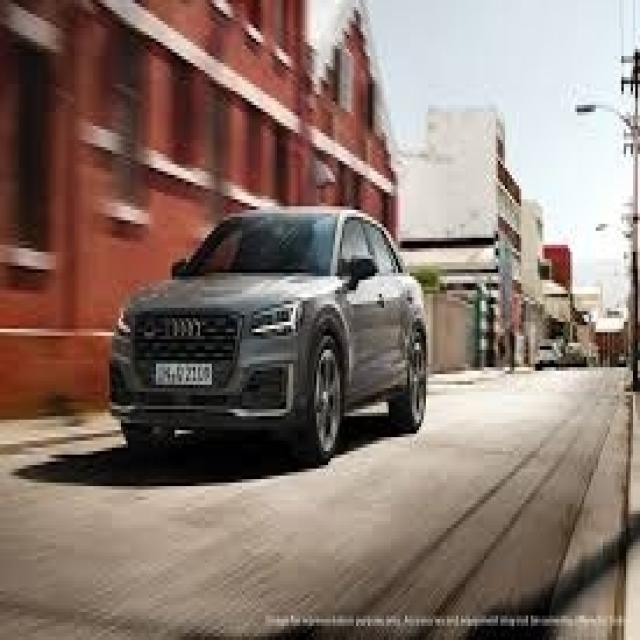black: (116, 209, 435, 460)
